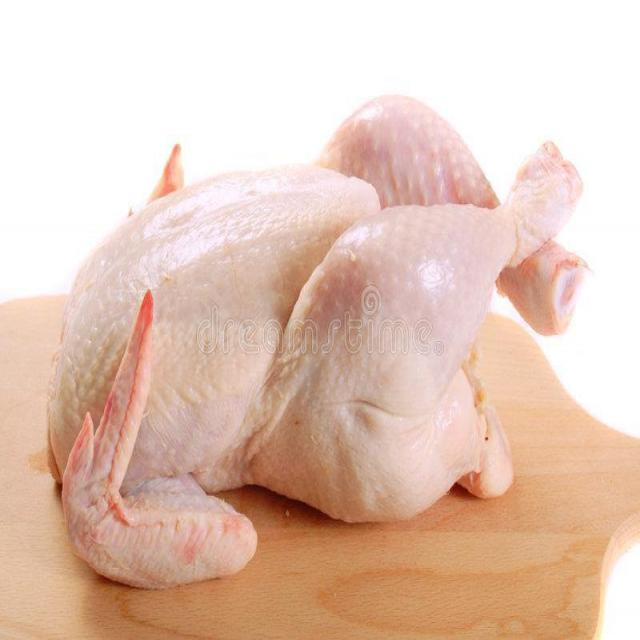chicken: (44, 93, 591, 587)
